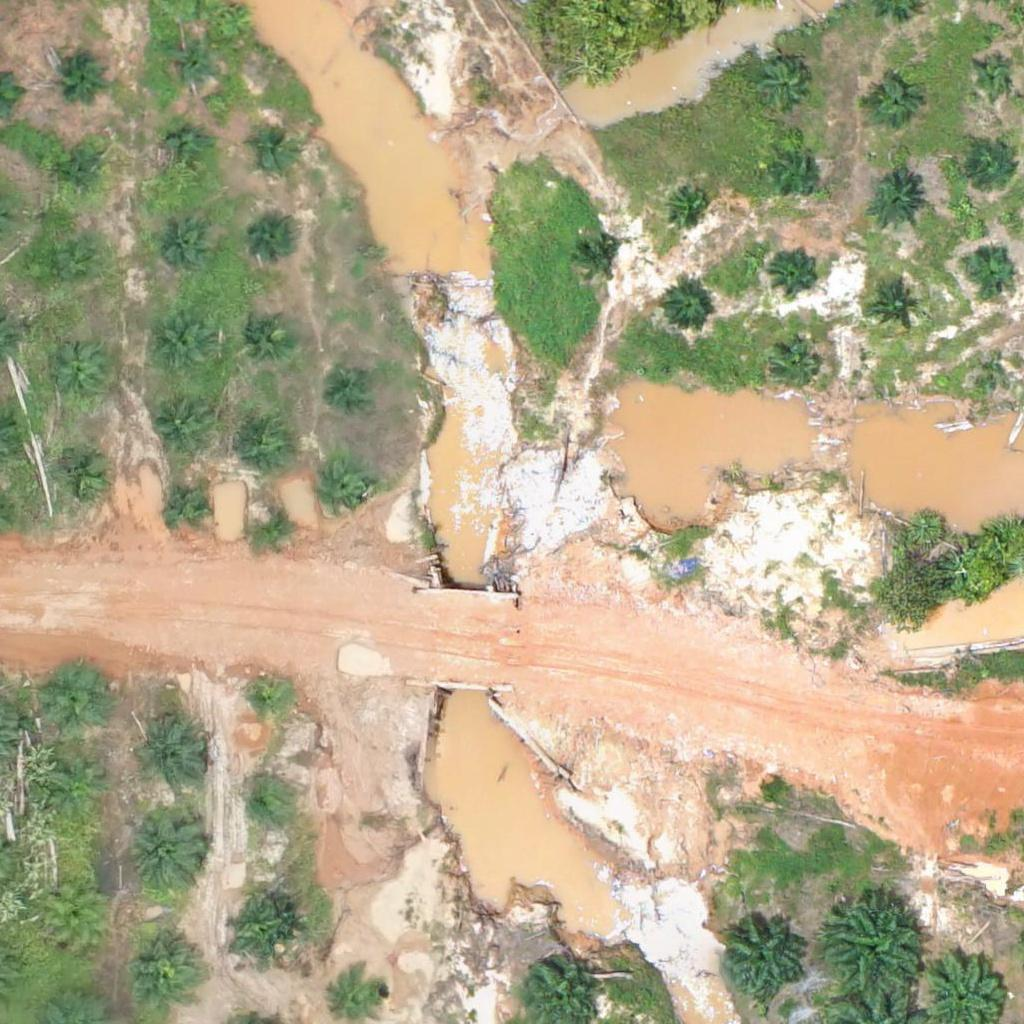Kelapa_Sawit: (823, 893, 923, 994), (718, 918, 806, 1006), (132, 714, 207, 790), (223, 895, 298, 971), (132, 811, 207, 887), (124, 929, 199, 1004), (36, 241, 99, 304), (151, 217, 214, 280), (149, 314, 212, 377), (45, 664, 108, 727), (236, 410, 299, 473), (150, 395, 213, 458), (865, 173, 928, 236), (41, 886, 104, 949), (51, 760, 113, 823), (46, 347, 108, 410), (51, 445, 113, 508), (236, 305, 298, 368), (163, 480, 213, 531), (249, 501, 299, 552), (963, 240, 1013, 291), (967, 141, 1017, 192), (865, 78, 915, 129), (759, 63, 809, 114), (770, 146, 820, 197), (770, 244, 820, 295), (870, 283, 920, 334), (252, 216, 302, 266), (59, 47, 109, 97), (166, 42, 216, 92), (162, 127, 212, 177), (248, 126, 298, 176), (661, 284, 711, 334), (320, 467, 370, 517), (330, 362, 380, 412), (242, 675, 292, 725), (238, 782, 288, 832), (772, 345, 822, 395), (664, 180, 714, 230), (573, 236, 623, 286), (56, 151, 106, 201), (973, 57, 1010, 95), (989, 360, 1014, 385)
